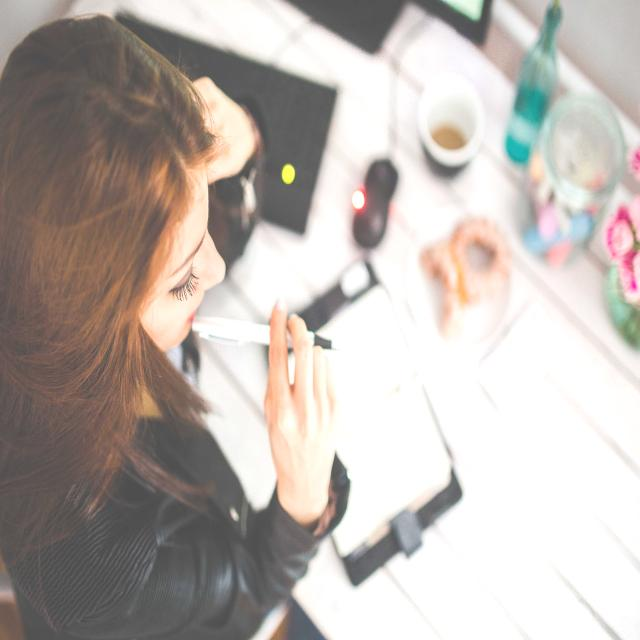Smooking: (192, 309, 344, 368)
